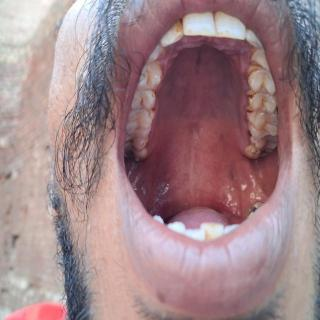cavities: (125, 132, 138, 154), (256, 145, 268, 159), (124, 145, 134, 161)
stains: (242, 141, 278, 163), (139, 99, 159, 132), (246, 89, 268, 113), (141, 86, 161, 108), (245, 66, 263, 90), (245, 44, 261, 70), (150, 61, 168, 84), (172, 15, 188, 39), (243, 104, 255, 132), (135, 133, 151, 153), (154, 45, 172, 61), (247, 128, 259, 147)
